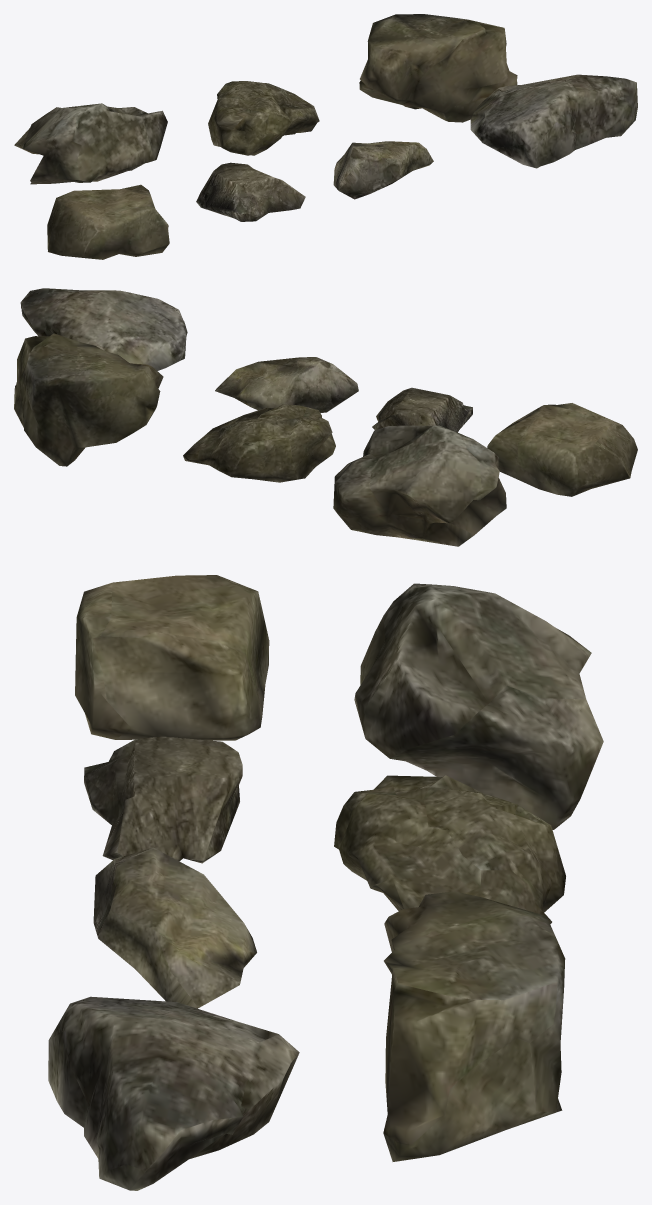
File: rock_moss_set_02.glb
3 views of the same model, one above another, from view 1: azimuth 30°, elevation 25°; view 2: azimuth 150°, elevation 25°; view 3: azimuth 270°, elevation 25° (orthographic). The views are drawn at different scales.
Parts seen in each view (by area): view 1: rock_moss_set_02_rock08; view 2: rock_moss_set_02_rock08; view 3: rock_moss_set_02_rock08.
Part boxes in pixels (box(x1,y1,x2,y2)): rock_moss_set_02_rock08: box(14, 14, 637, 259); rock_moss_set_02_rock08: box(14, 288, 637, 546); rock_moss_set_02_rock08: box(48, 575, 603, 1190).
Size of the model in its own units: 8.27 by 1.35 by 3.4.
Materials: 1 (1 with a texture image).
